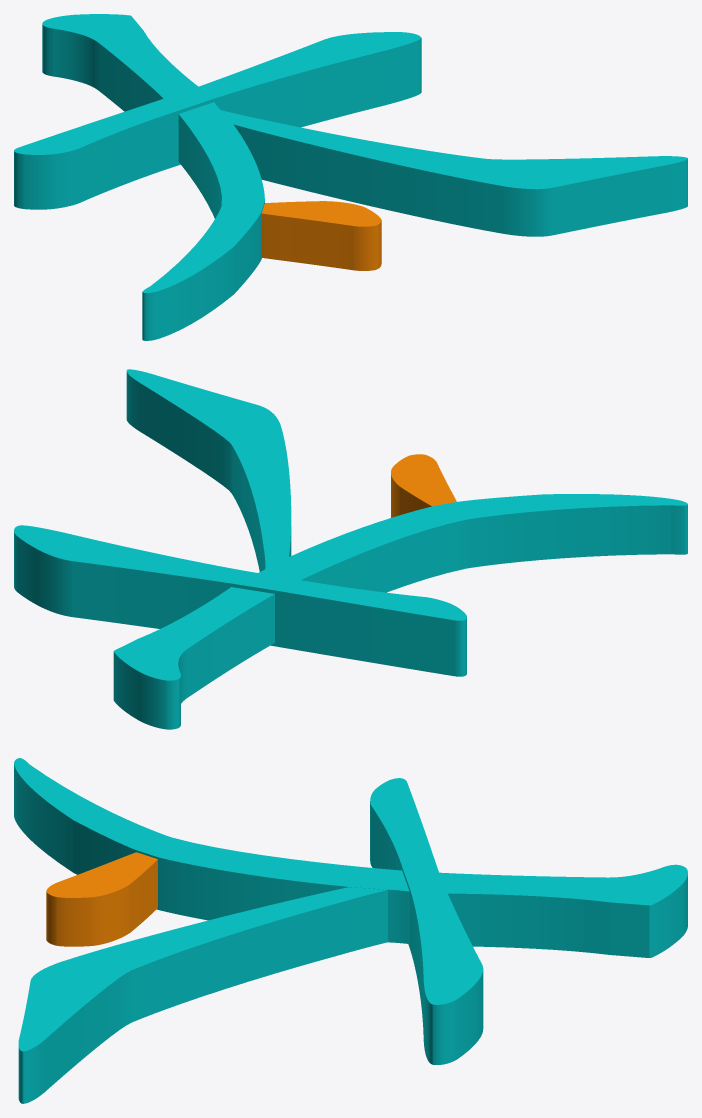
The model's file is hanzi99.fbx.
The picture shows the model from 3 angles, top to bottom: view 1: azimuth 30°, elevation 25°; view 2: azimuth 150°, elevation 25°; view 3: azimuth 270°, elevation 25°; orthographic projection. The views are drawn at different scales.
Parts seen in each view (by area): view 1: Curve.002, Curve, Curve.001, Curve.003; view 2: Curve.001, Curve, Curve.002, Curve.003; view 3: Curve.001, Curve.002, Curve, Curve.003.
Part boxes in pixels (x1,y1,x2,y2): Curve.002: [221, 110, 687, 236]; Curve: [14, 32, 421, 209]; Curve.001: [42, 14, 264, 340]; Curve.003: [261, 201, 381, 270]; Curve.001: [113, 494, 687, 729]; Curve: [14, 525, 466, 676]; Curve.002: [126, 369, 291, 571]; Curve.003: [391, 454, 456, 517]; Curve.001: [14, 758, 687, 957]; Curve.002: [18, 887, 387, 1103]; Curve: [370, 778, 483, 1064]; Curve.003: [46, 852, 157, 946].
Size of the model in its own units: 23.66 by 22.98 by 2.26.
